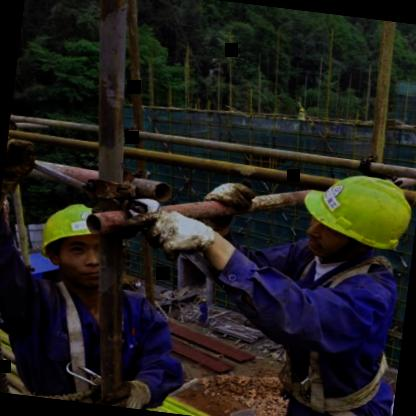helmet: (290, 164, 416, 271), (29, 195, 122, 292)
